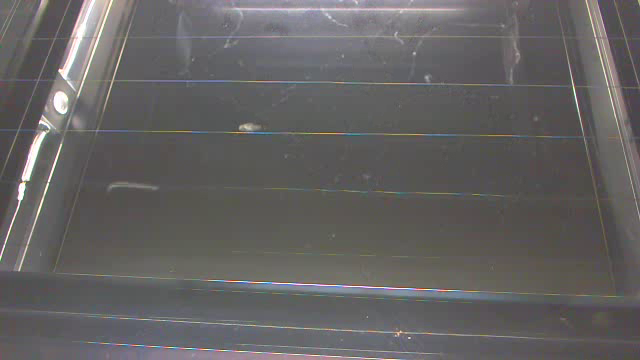alpha: (106, 182, 160, 190), (239, 123, 267, 132)
